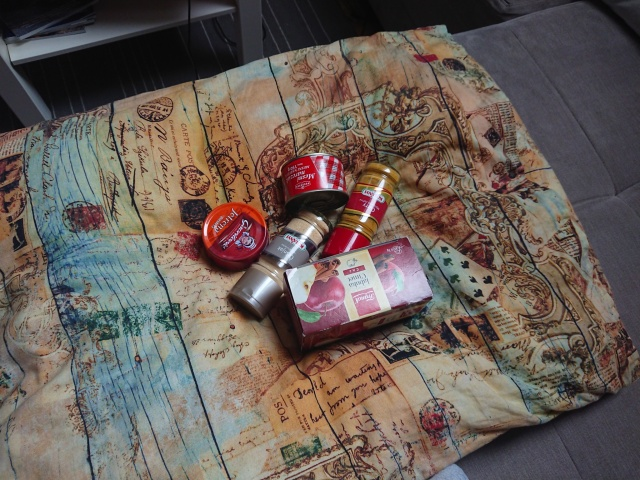Franck Apple Cinnamon Tea 60g: (281, 233, 436, 355)
Gavrilovic Pork Liver Pate 100g: (199, 199, 270, 274)
Kotanyi Curry Spices Mix 70g: (322, 159, 404, 268)
Kotanyi Garlic Granules 70g: (225, 204, 335, 322)
Podravka Luncheon Meat 150g: (278, 150, 348, 216)
